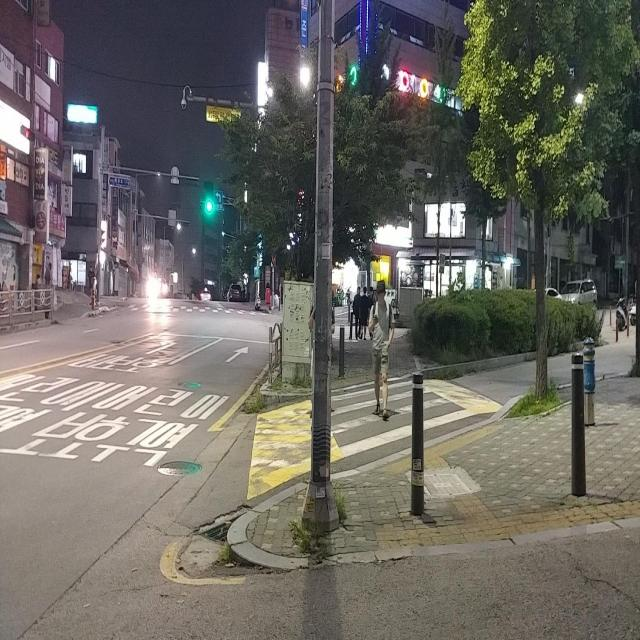횡단보도: (330, 379, 477, 458)
